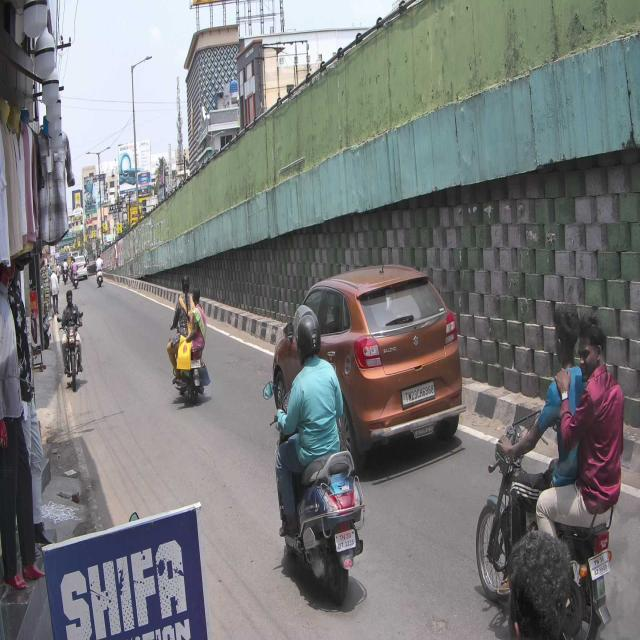double_rider: (474, 299, 626, 640), (166, 270, 208, 410)
single_rider: (264, 313, 366, 613)
